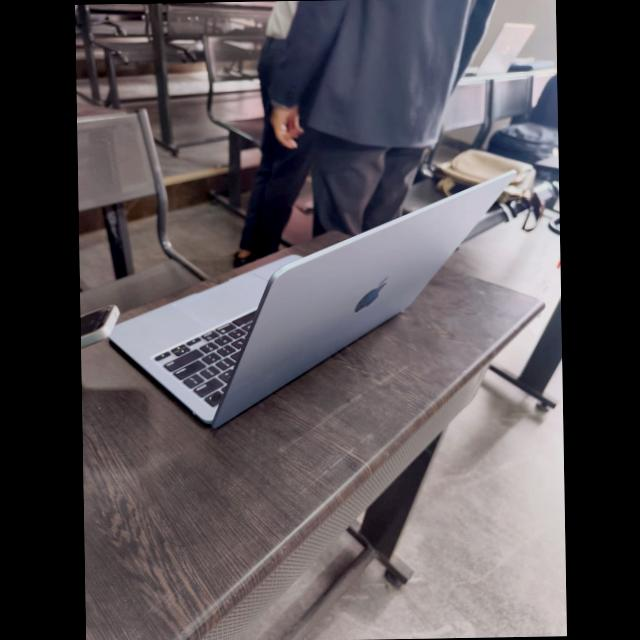laptop: (166, 157, 524, 460)
